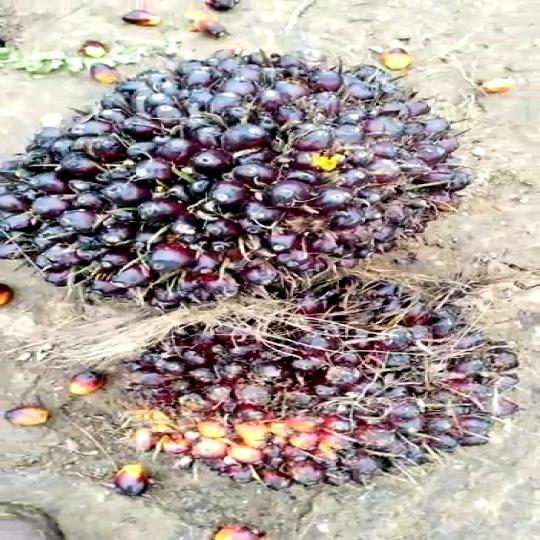kurang masak: (0, 50, 481, 313), (119, 274, 517, 505)
